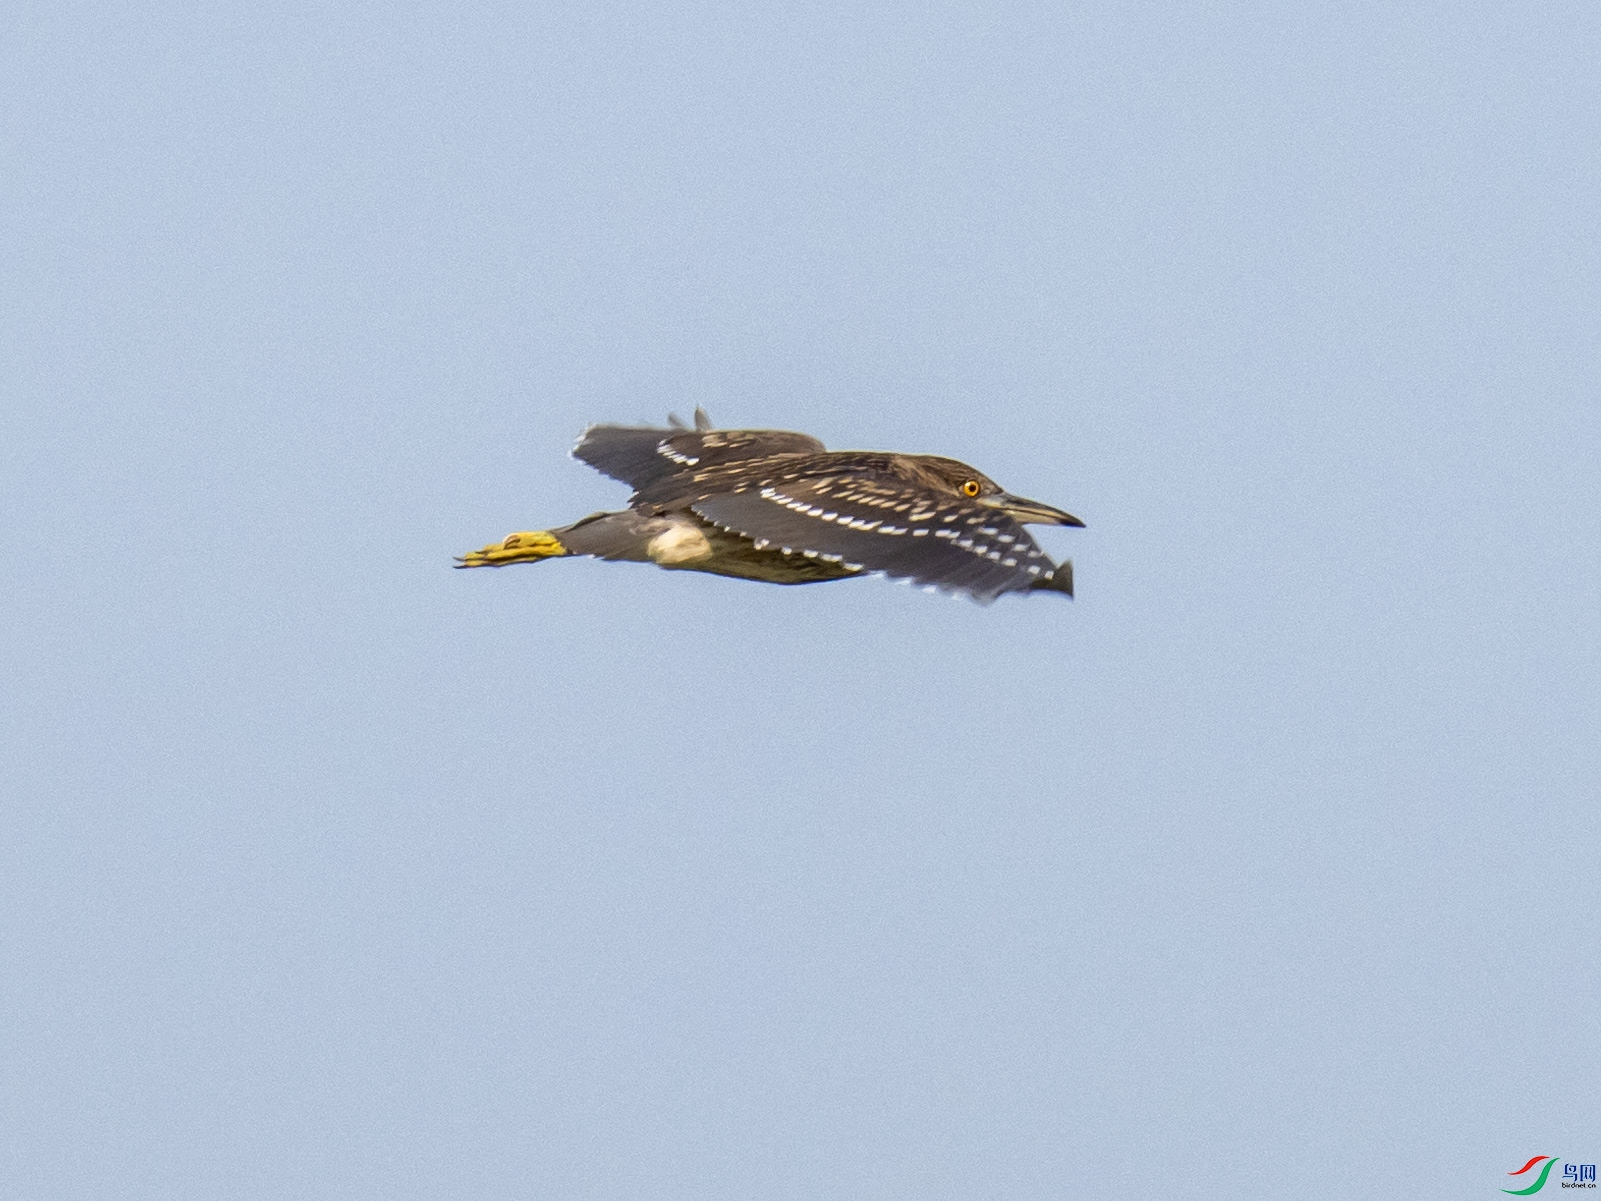bird: (433, 401, 1064, 604)
